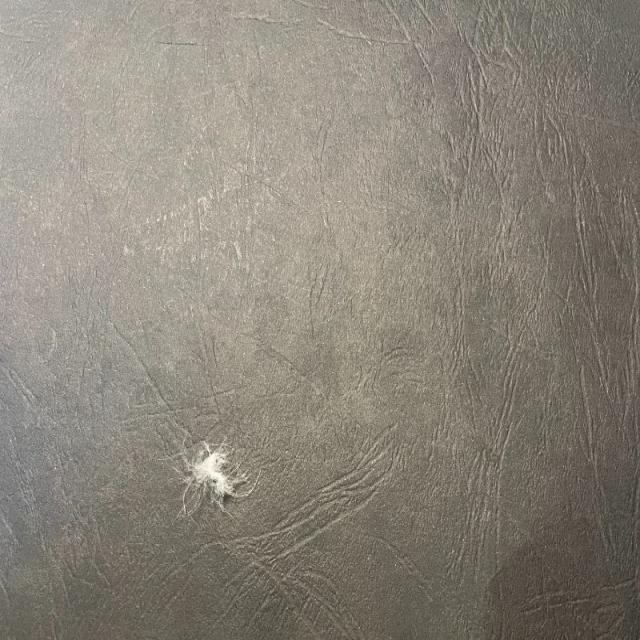feather: (175, 435, 258, 518)
